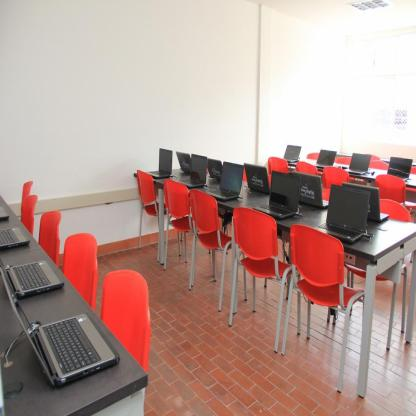board: (0, 266, 120, 390), (314, 184, 370, 244), (0, 260, 64, 297), (253, 171, 301, 218), (343, 181, 389, 222), (206, 160, 244, 201), (294, 170, 329, 208), (179, 155, 208, 187), (244, 162, 271, 193), (149, 150, 172, 178), (344, 155, 371, 175), (388, 158, 412, 180), (0, 229, 30, 246), (315, 150, 336, 170), (176, 150, 192, 175), (208, 156, 223, 181), (284, 146, 302, 164), (0, 206, 8, 219)
